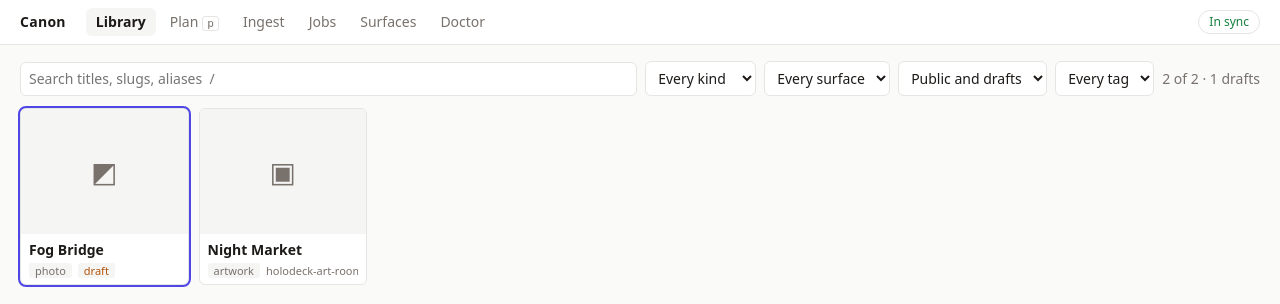
Scenario: Library › lists, filters and searches
Expected: the text "Night Market" is shown, [208,240,302,259]
Expected: the text "Fog Bridge" is shown, [29,240,104,259]
Select "Drafts" in the dropdown named "Visibility". click: point(973, 79)
box: [898,61,1047,96]
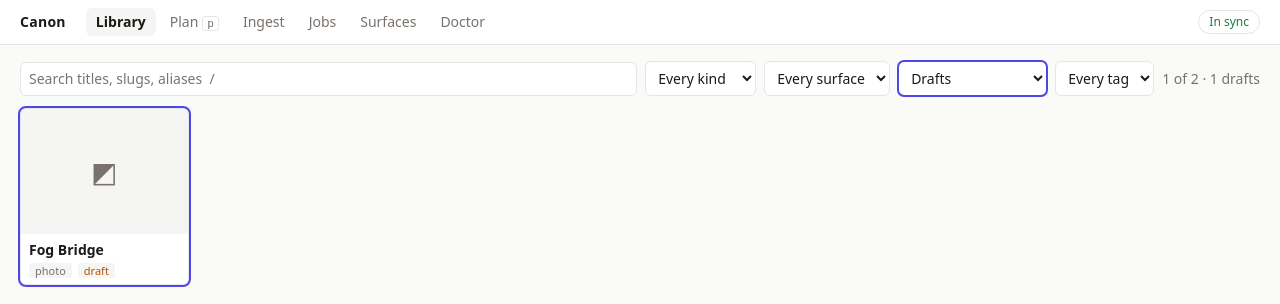
Expected: the link "Night Market" is gone
Select "Public and drafts" in the dropdown named "Visibility". click: point(973, 79)
box: [898,61,1047,96]
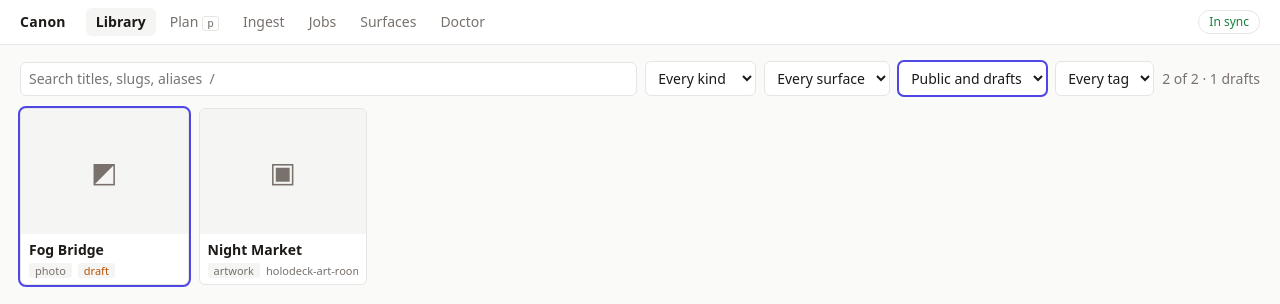
Type "night" into the search field labelled "Search". click: point(329, 79)
box: [20,62,637,96]
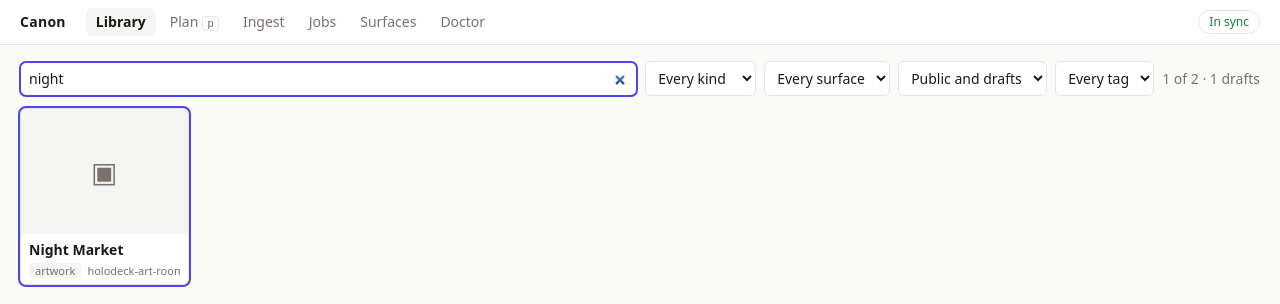
Expected: the link "Fog Bridge" is gone
